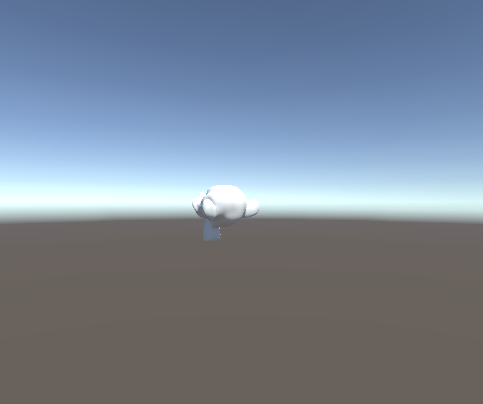monkey: (189, 182, 261, 242)
